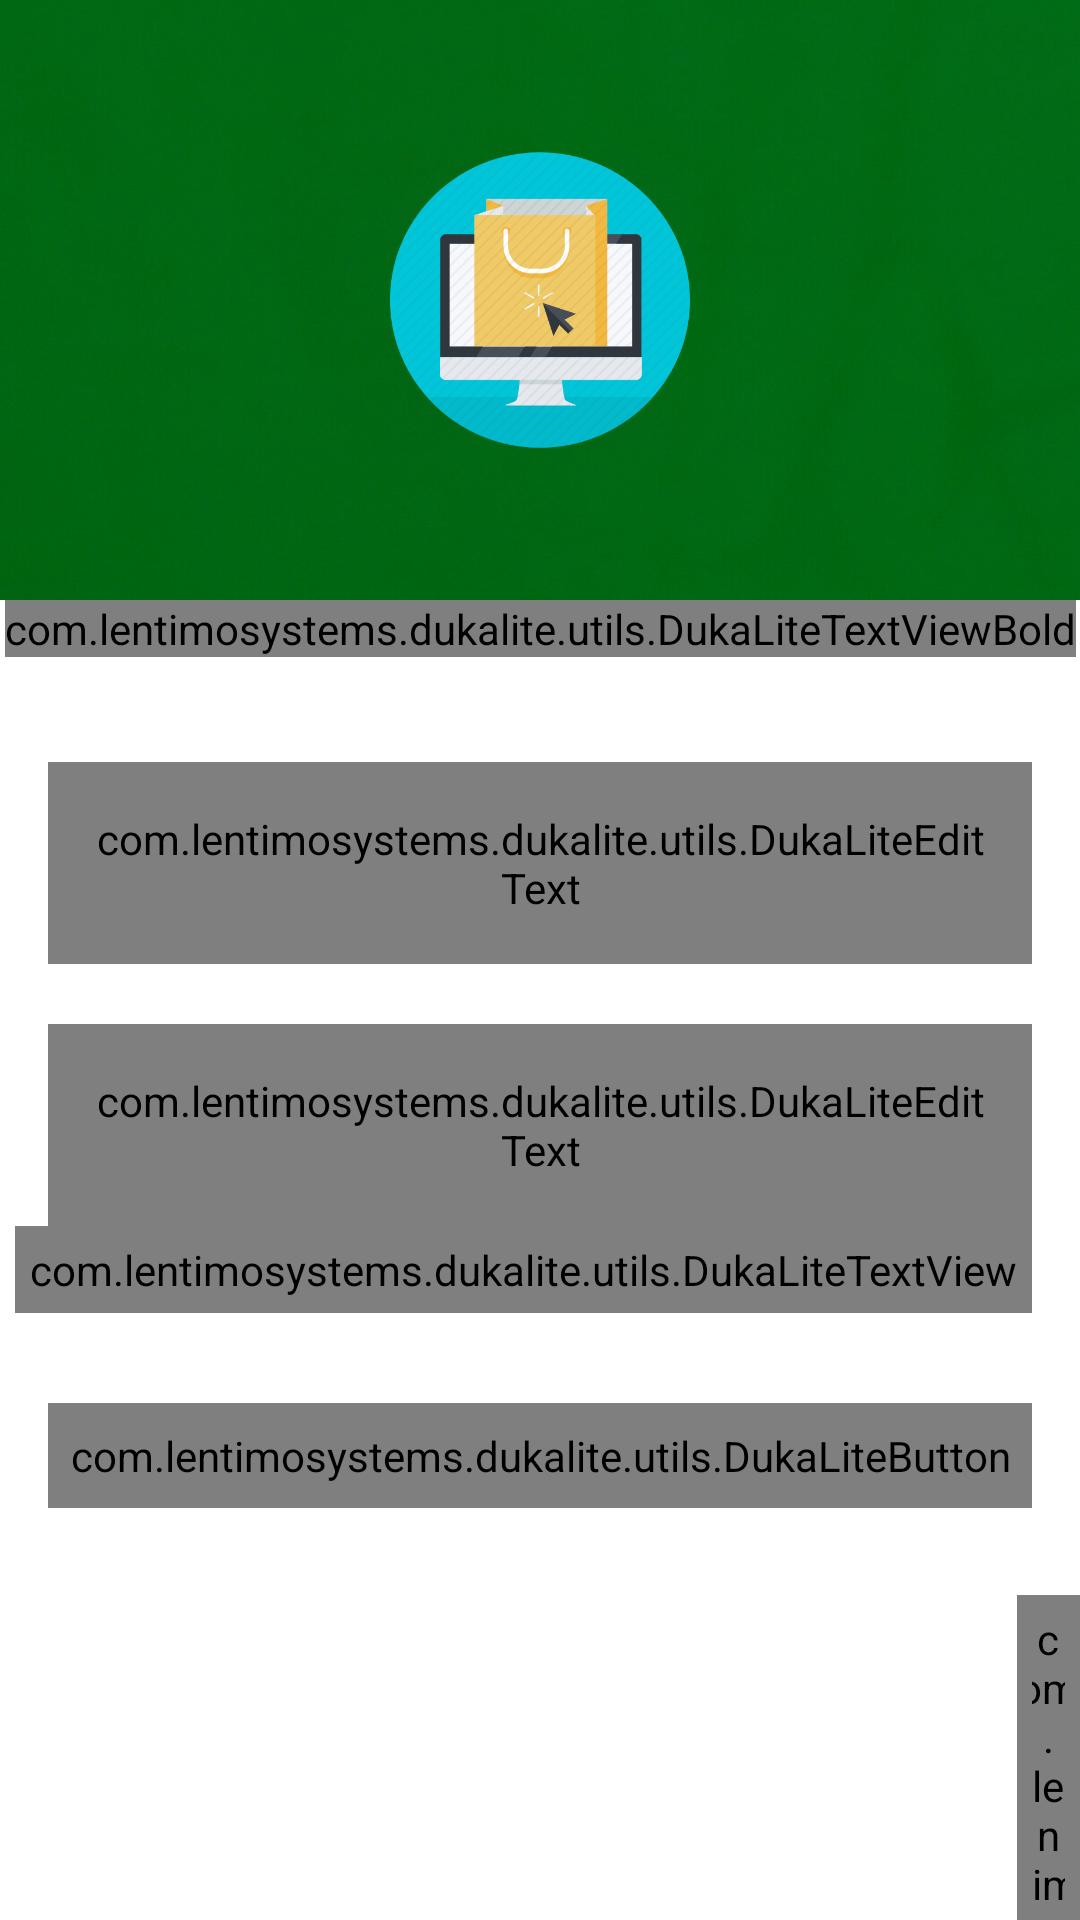

Screen size 1080px×1920px. Icon name, then its box in pixels as [x1=x1, y1=y1, x2=x2, y2=y2]:
ecommerce: [x1=390, y1=152, x2=690, y2=448]
